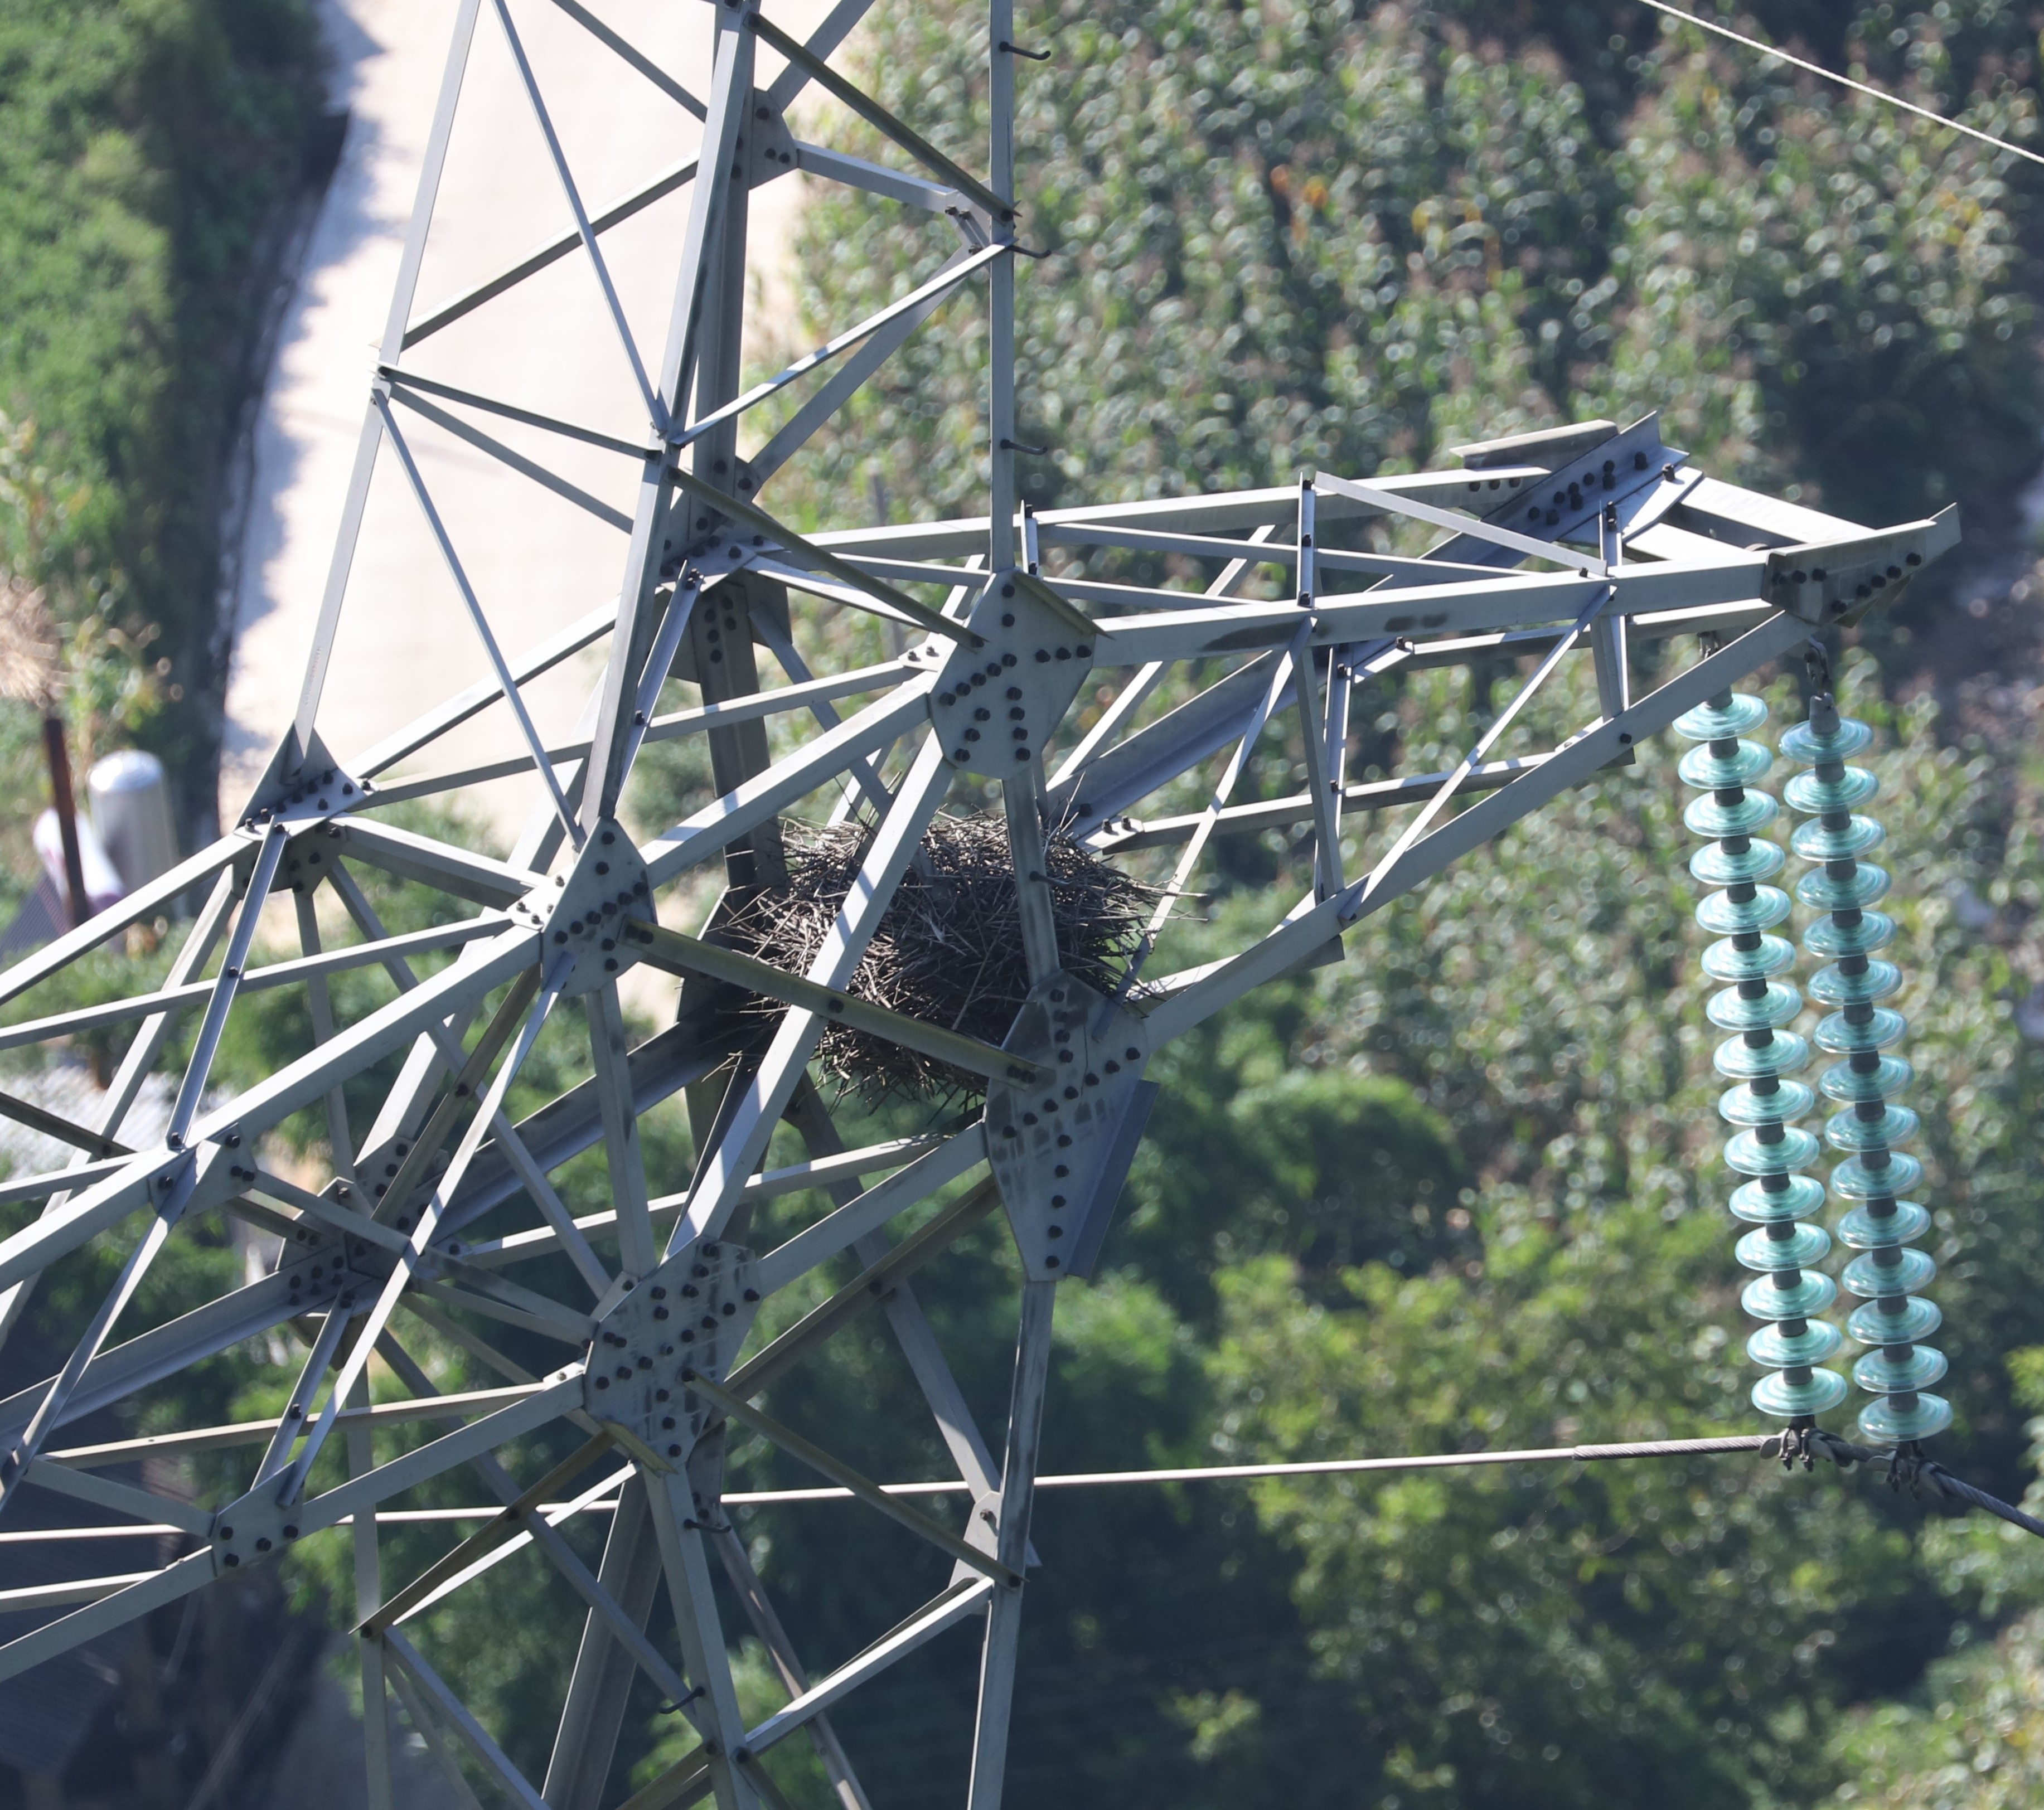niaowo: (744, 786, 1174, 1108)
